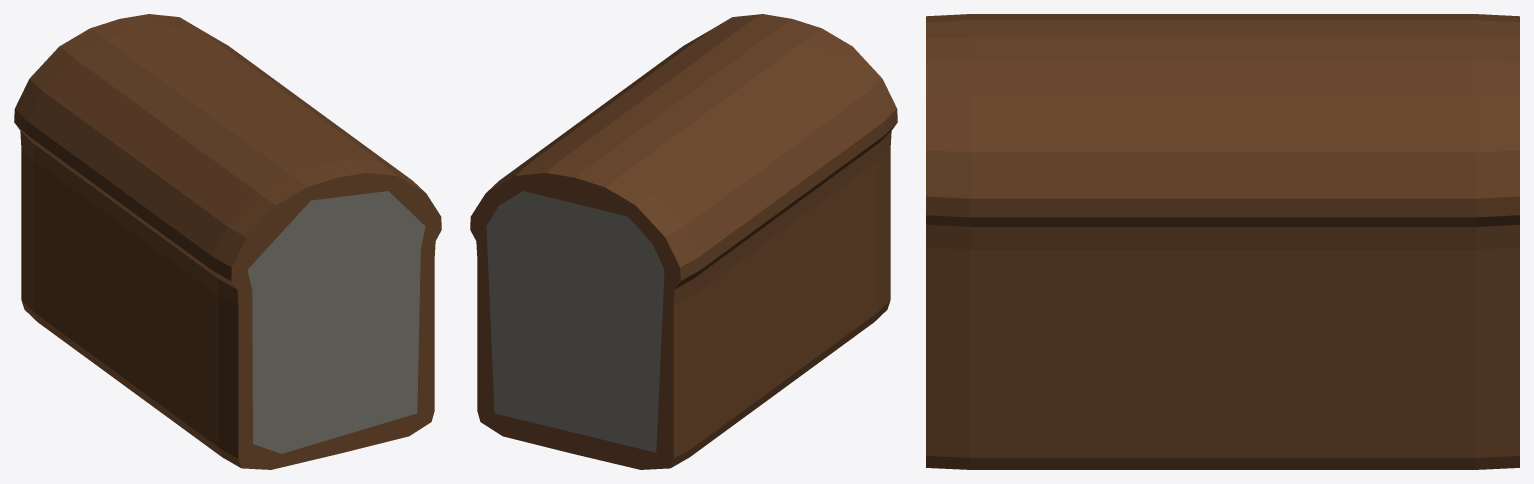
File: cc0-bread-lod1.glb
3 renders of one model, left to right at view 1: azimuth 30°, elevation 25°; view 2: azimuth 150°, elevation 25°; view 3: azimuth 270°, elevation 25°, orthographic. The views are drawn at different scales.
Visible parts, largest first — view 1: part_0; view 2: part_0; view 3: part_0.
Boxes of the visible parts, x1,y1,x2,y2 form: part_0: (14, 14, 441, 469); part_0: (470, 14, 897, 469); part_0: (926, 14, 1519, 469).
Size of the model in its own units: 0.6933 by 0.847 by 1.2.
